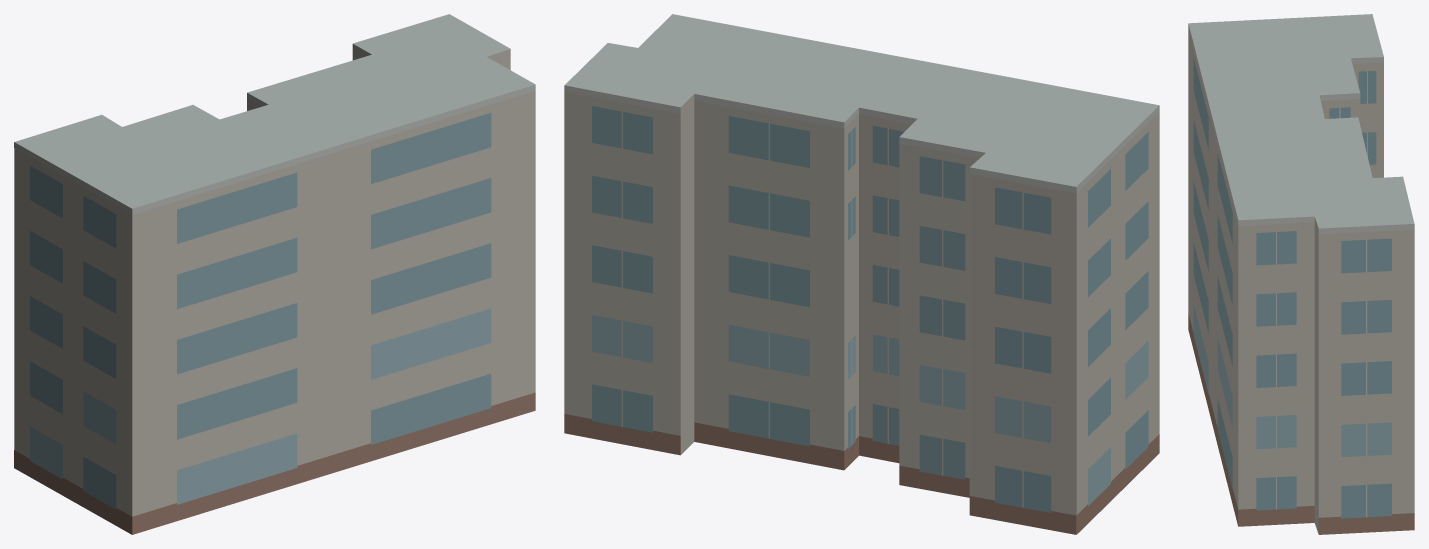
Rendered from survey-upis-33005657.glb.
3 views of the same model, side by side, from view 1: azimuth 30°, elevation 25°; view 2: azimuth 150°, elevation 25°; view 3: azimuth 270°, elevation 25° (orthographic). The views are drawn at different scales.
Parts seen in each view (by area): view 1: survey-upis-33005657.tmp; view 2: survey-upis-33005657.tmp; view 3: survey-upis-33005657.tmp.
Part boxes in pixels (<box>): survey-upis-33005657.tmp: <box>14,14,535,534</box>; survey-upis-33005657.tmp: <box>564,14,1159,534</box>; survey-upis-33005657.tmp: <box>1188,14,1414,534</box>.
Bounding box in the file's own units: 19.53 × 13 × 8.7.
